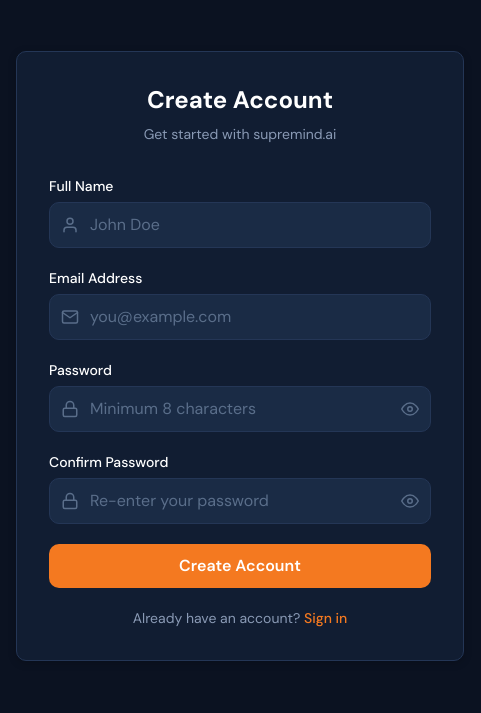
Auth page › shows validation error when signup passwords do not match
Type "Test User" into the field labelled "Full Name".
click(240, 225); type("Test User")  # box x1=49 y1=202 x2=431 y2=248
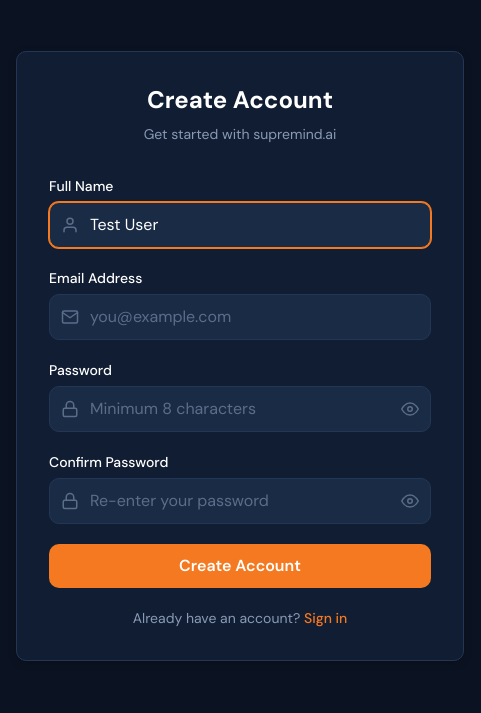
Type "test@test.com" into the field labelled "Email Address".
click(240, 317); type("test@test.com")  # box x1=49 y1=294 x2=431 y2=340
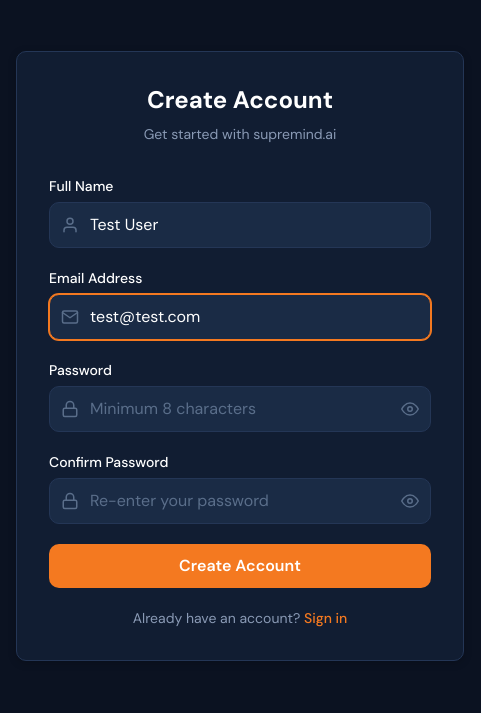
Type "password123" into the password field labelled "Password".
click(240, 409); type("password123")  # box x1=49 y1=386 x2=431 y2=432
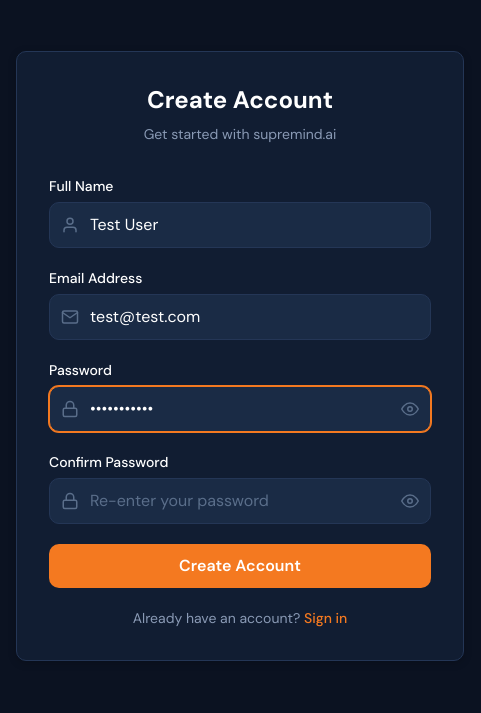
Type "differentpass" into the password field labelled "Confirm Password".
click(240, 501); type("differentpass")  # box x1=49 y1=478 x2=431 y2=524
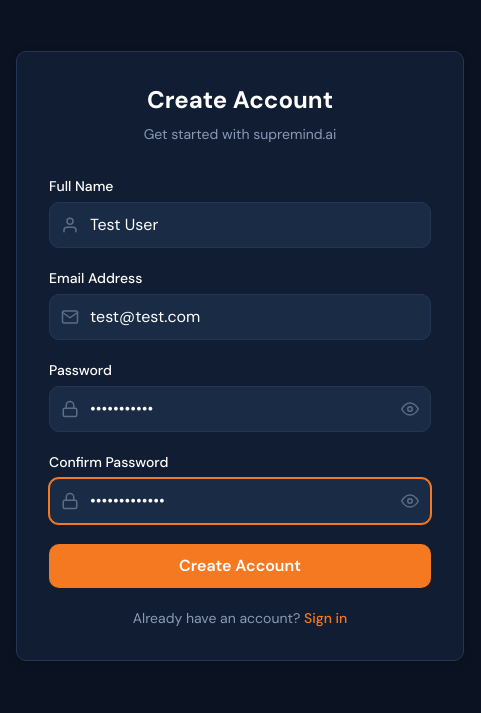
Click the button "Create Account".
click(240, 566)  # box x1=49 y1=544 x2=431 y2=588
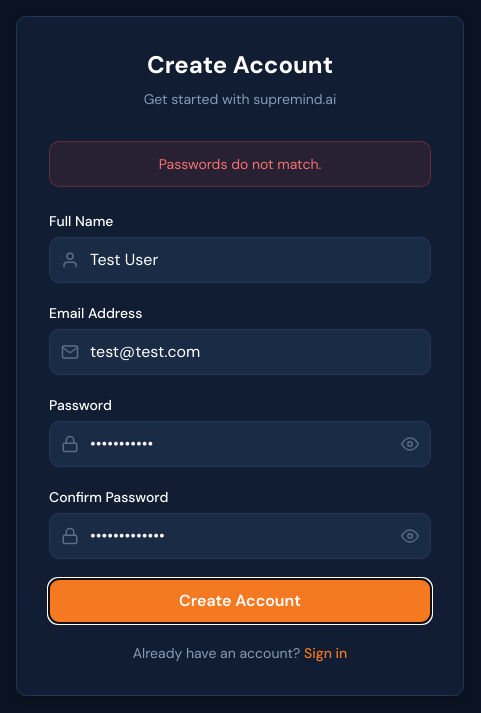
Now the text "Passwords do not match." is shown, box x1=49 y1=141 x2=431 y2=187
